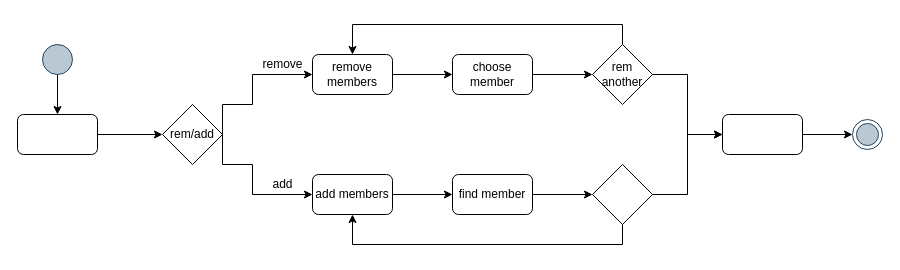
Some shapes in this 900 by 270 pixel diagram are drawn without their labels. Here are the shapes that lost their labels. From the top down, the centre of each, then its label:
At point 57,134: "edit members".
At point 762,134: "save".
At point 622,194: "add another".
